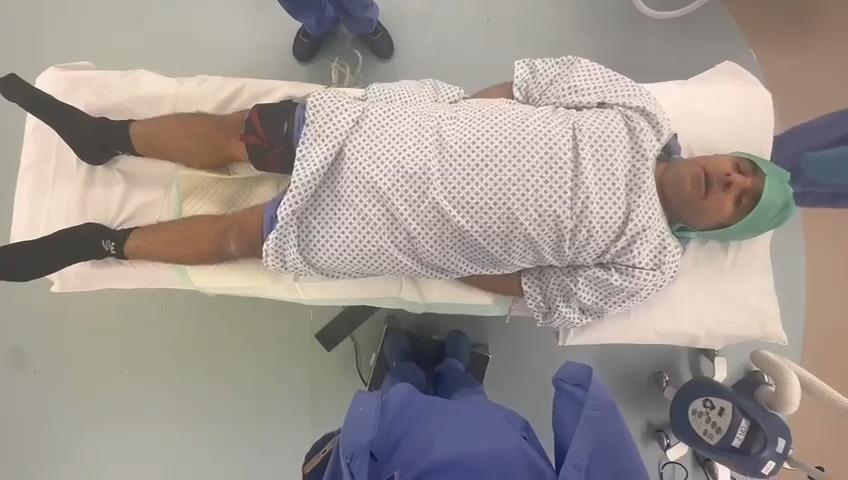bed: (0, 60, 792, 349)
patient: (0, 59, 790, 328)
tourniquet: (242, 100, 300, 172)
